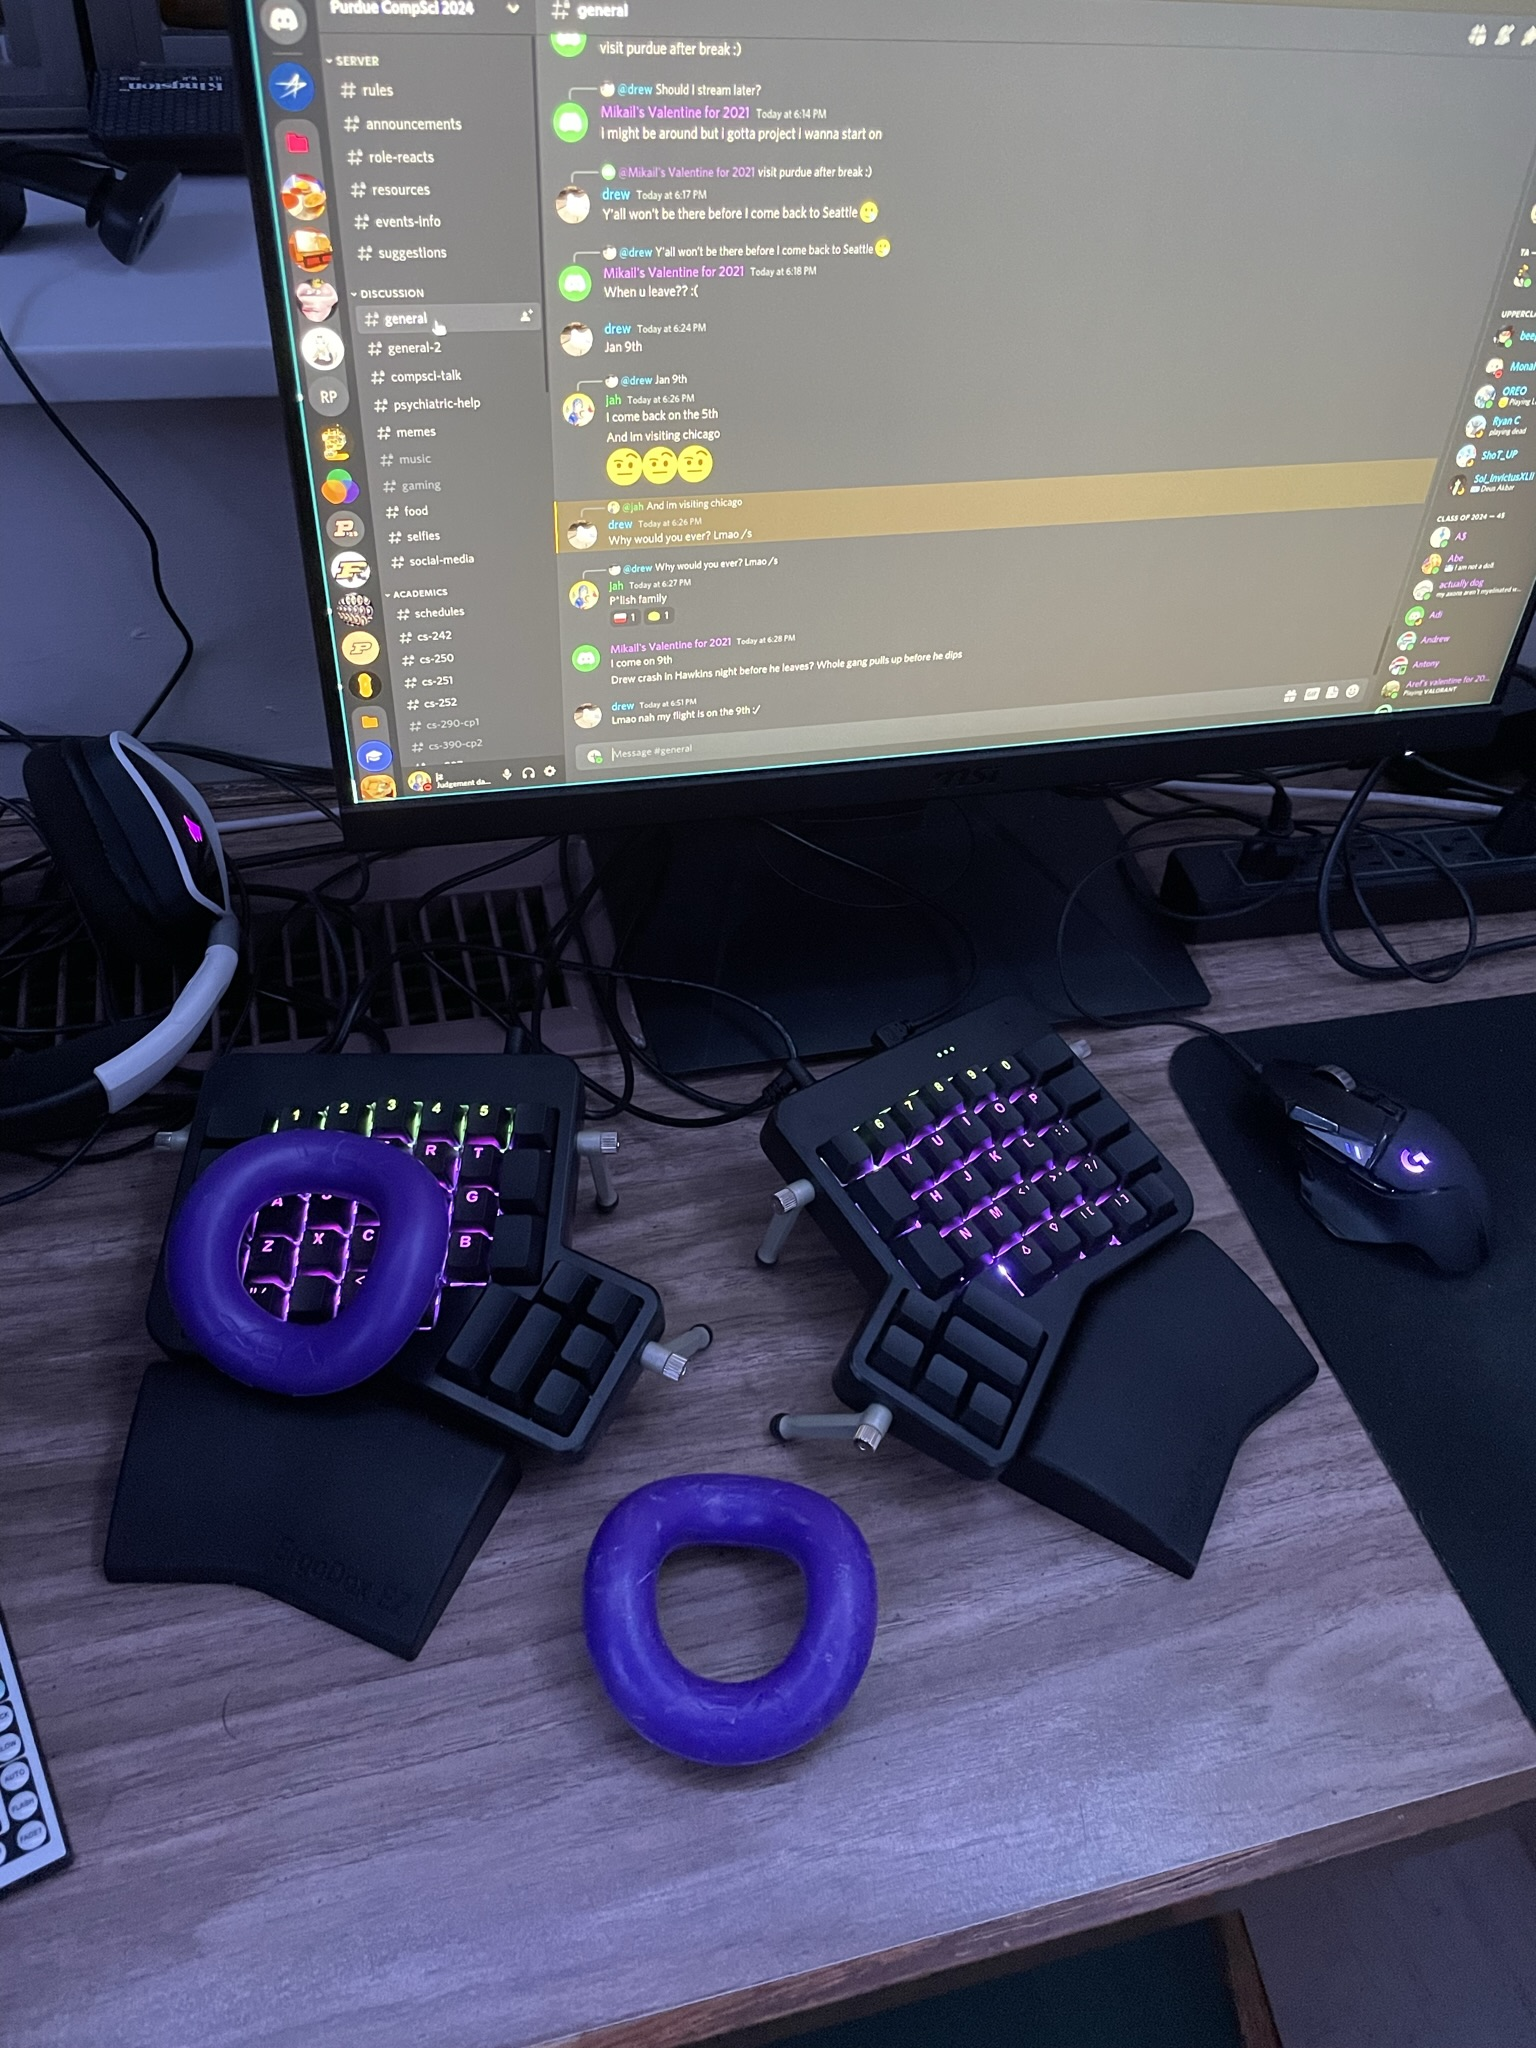ring: (579, 1472, 881, 1774), (171, 1129, 449, 1400)
